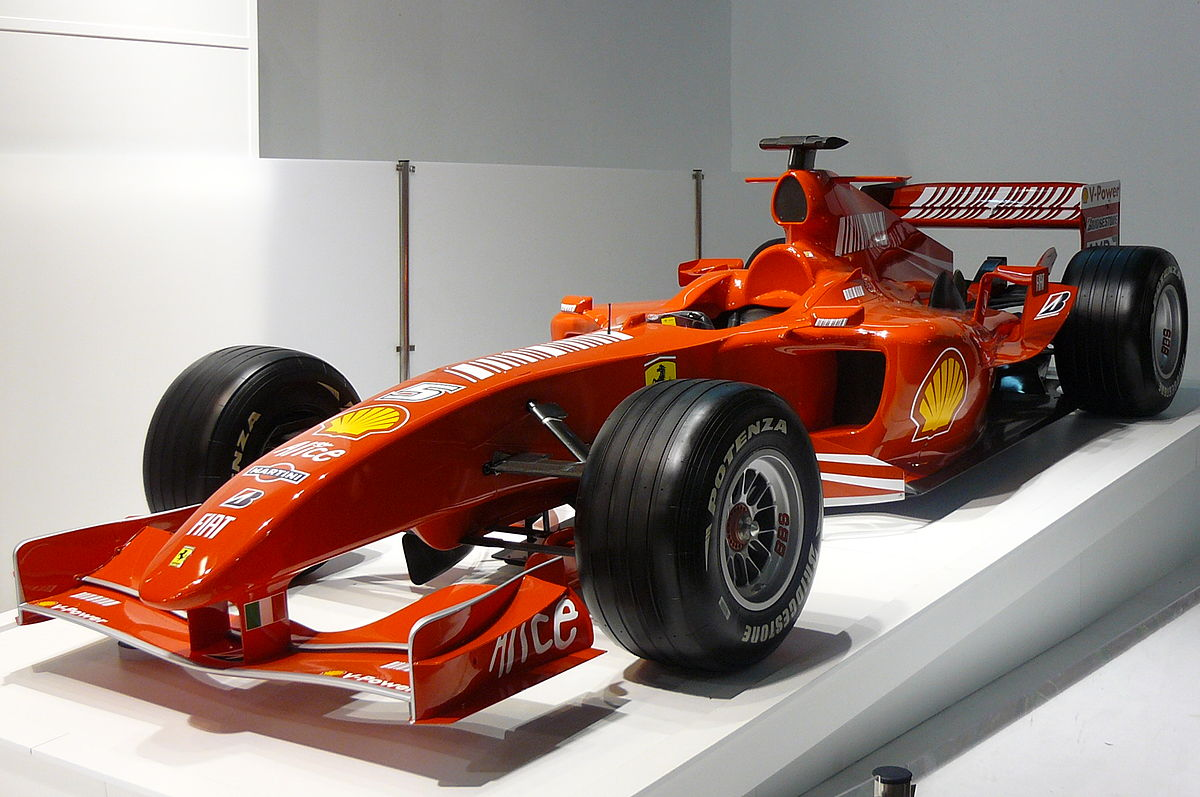Formule 1: (18, 173, 1182, 723)
